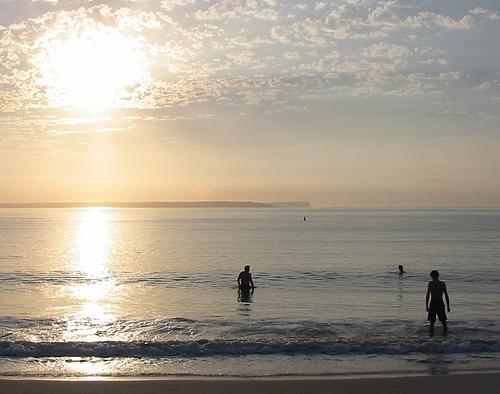human: (424, 268, 450, 336), (236, 262, 254, 292), (394, 262, 406, 276)
